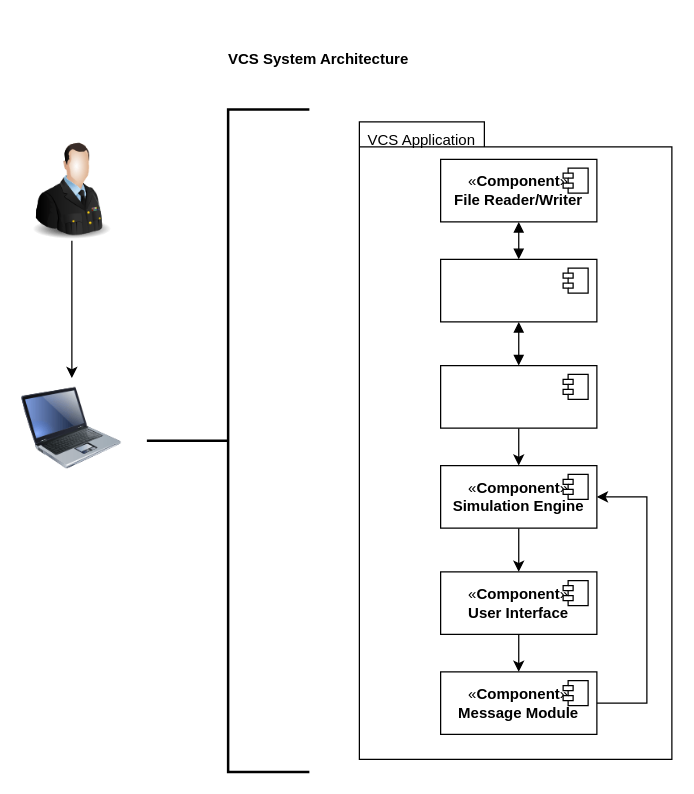
Image size: 694x794. Some labels were removed from this diagram. Here are the shapes that lost their labels. From the top down, the centre of each, then its label:
At pixel 518 290: "« Component » I/O Handler".
At pixel 518 396: "« Component » Data Models/Entities".
